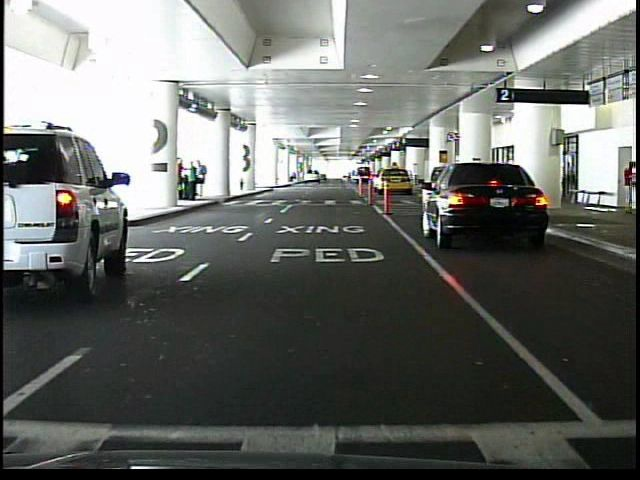person: (621, 162, 637, 216), (185, 160, 198, 202), (197, 160, 209, 199)
